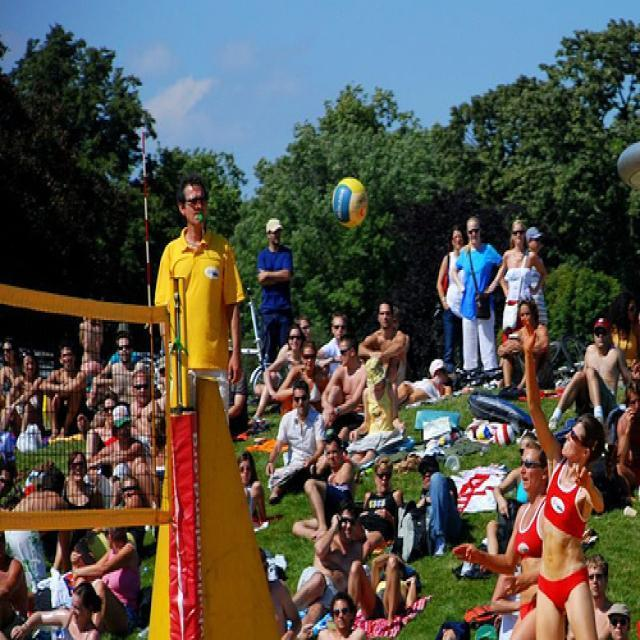volleyball: (332, 178, 368, 225)
